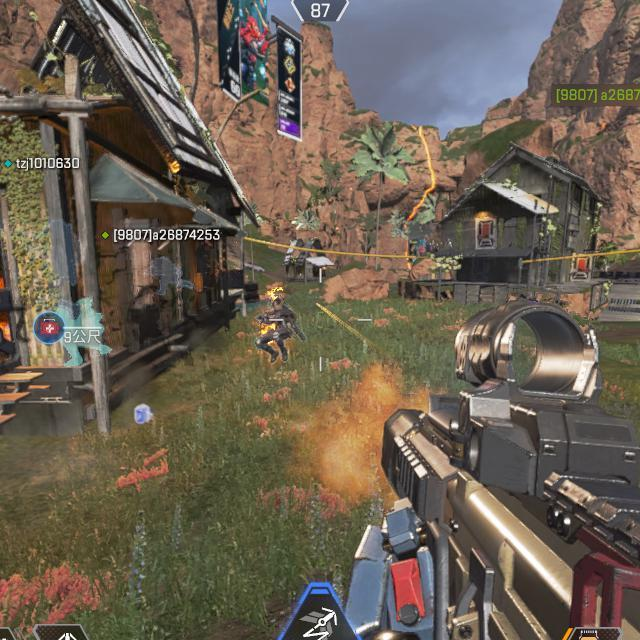avatar: (254, 294, 299, 365)
